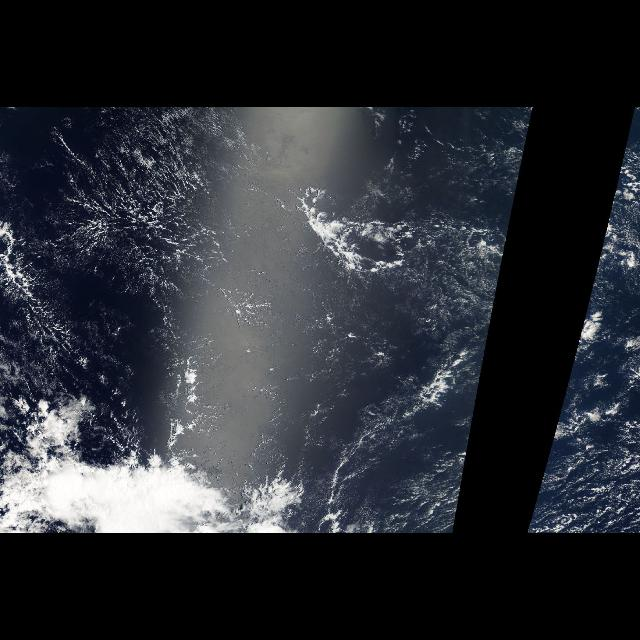Gravel: (322, 273, 502, 533), (527, 273, 637, 533)
Sugar: (7, 110, 302, 374), (368, 184, 520, 384)
